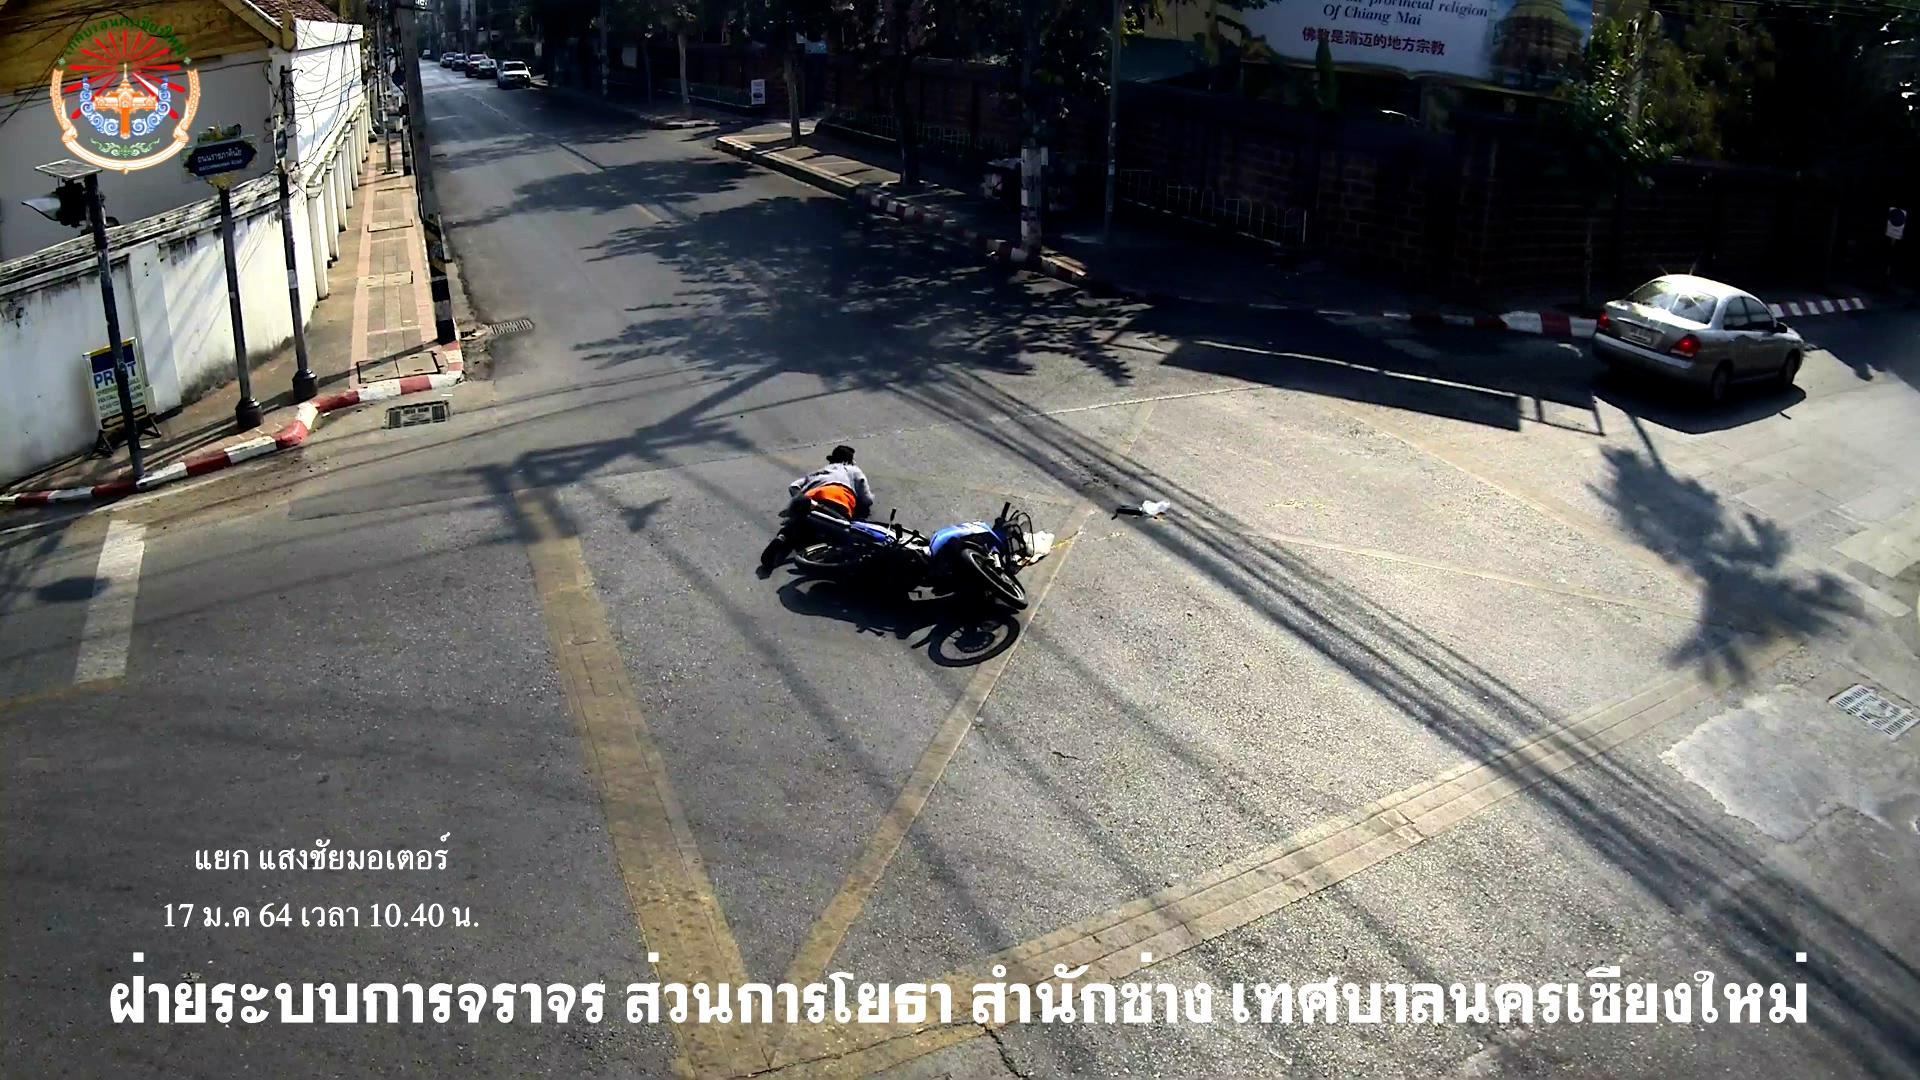accident: (775, 438, 873, 564)
